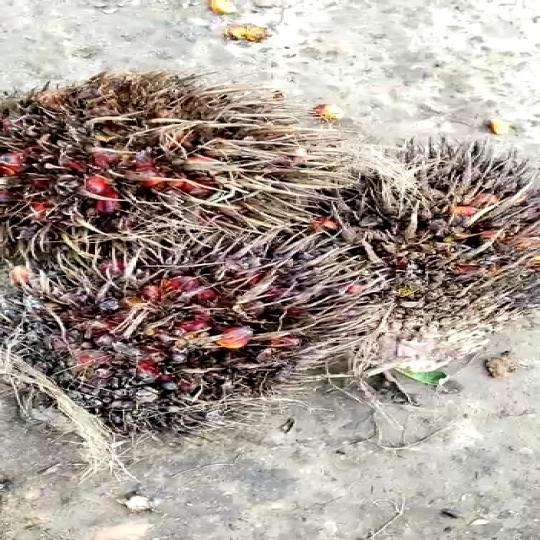terlalu masak: (0, 239, 400, 443), (0, 67, 301, 257), (284, 138, 540, 310)
